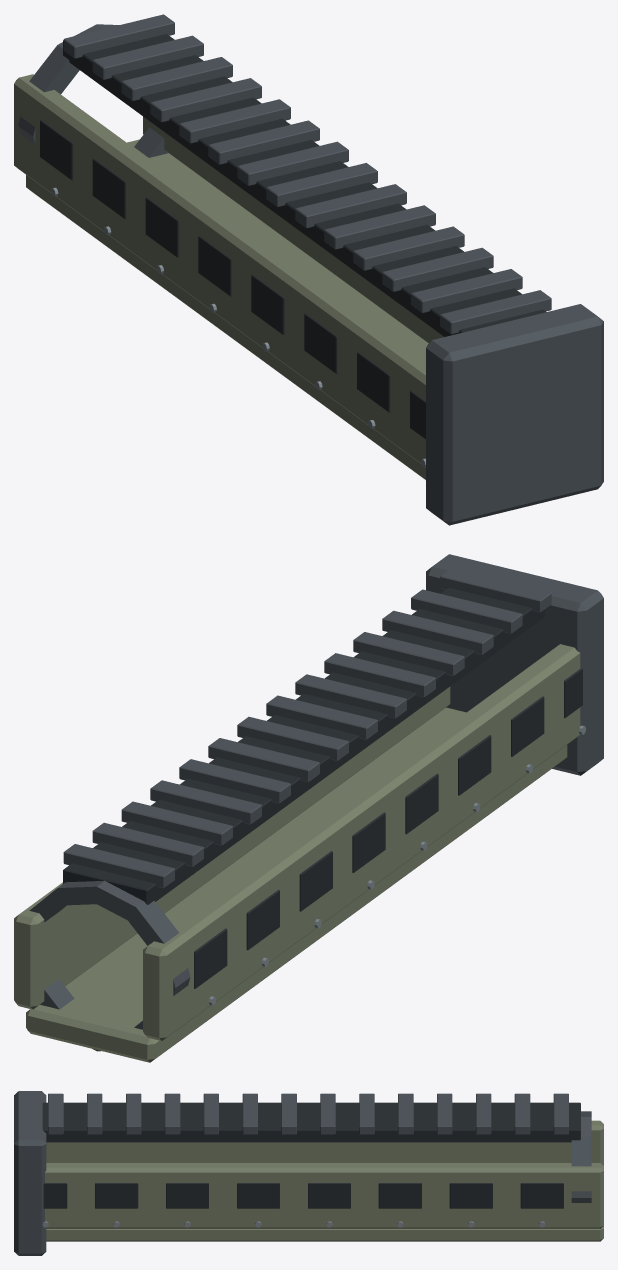
File: weapon_osprey338_handguard.glb
3 views of the same model, one above another, from view 1: azimuth 30°, elevation 25°; view 2: azimuth 150°, elevation 25°; view 3: azimuth 270°, elevation 25° (orthographic). The views are drawn at different scales.
Visible parts, largest first — view 1: Geometry_weapon_osprey338_handguard; view 2: Geometry_weapon_osprey338_handguard; view 3: Geometry_weapon_osprey338_handguard.
Part boxes in pixels (x1,y1,x2,y2): Geometry_weapon_osprey338_handguard: (14, 14, 603, 525); Geometry_weapon_osprey338_handguard: (14, 554, 603, 1062); Geometry_weapon_osprey338_handguard: (14, 1091, 603, 1255).
Bounding box in the file's own units: 0.0808 × 0.087 × 0.3825.
